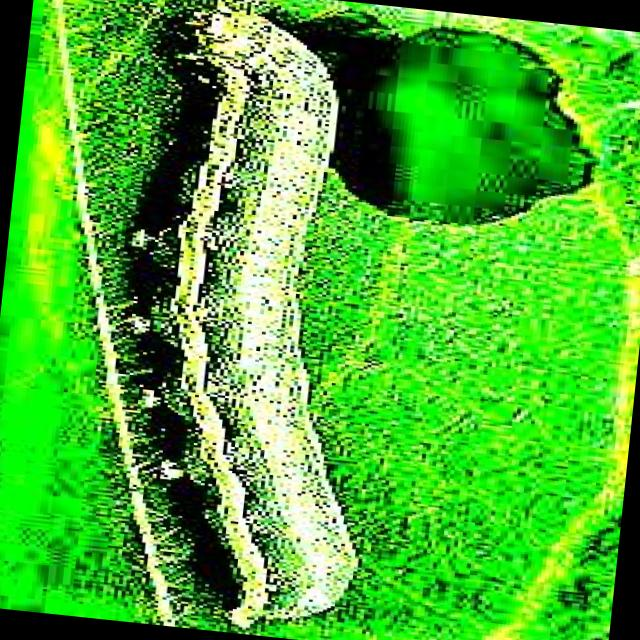Armyworm: (76, 1, 450, 640)
Armyworm_damage: (320, 2, 616, 259)
